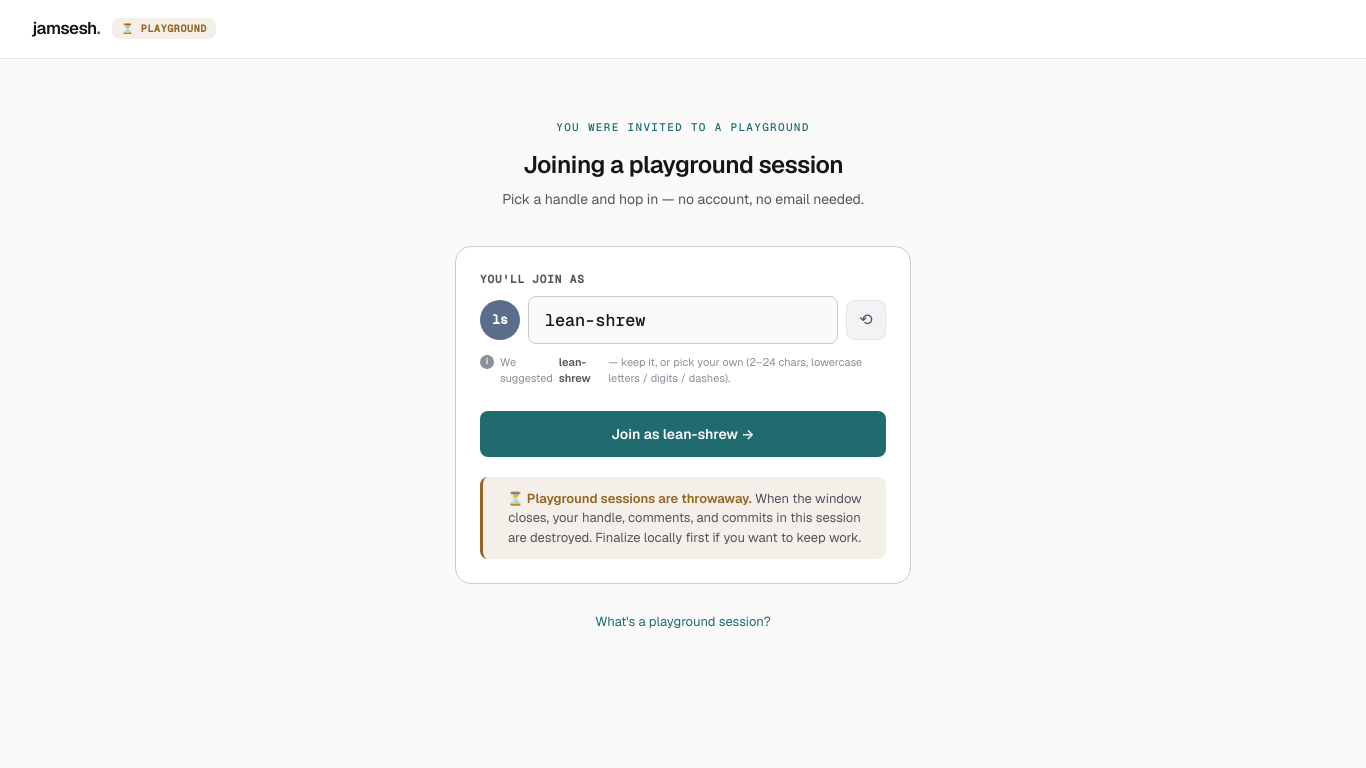
JoinerPicker › shows a validation error when nickname is too short
Replace the text in the field labelled "You'll join as" with "x" at point(683, 320), box [528,296,838,344]
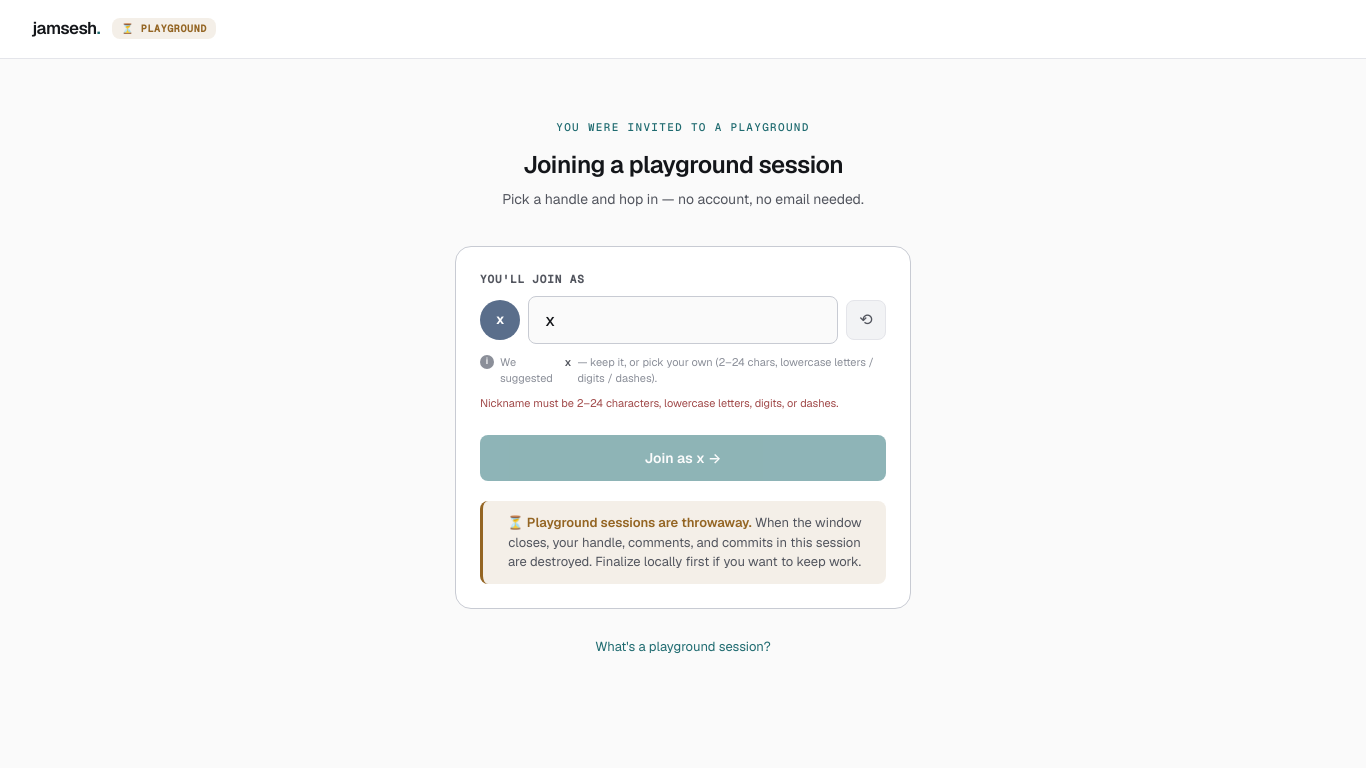
Expected: the message "Nickname must be 2–24 characters, lowercase letters, digits, or dashes." is shown, [480,394,886,411]
Expected: the message shows "2–24 characters", [480,396,838,410]
